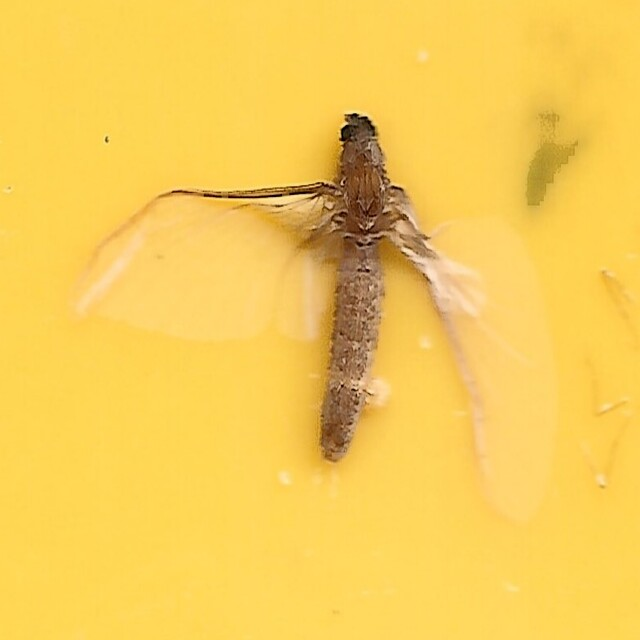Ephemeroptera: (82, 106, 558, 534)
